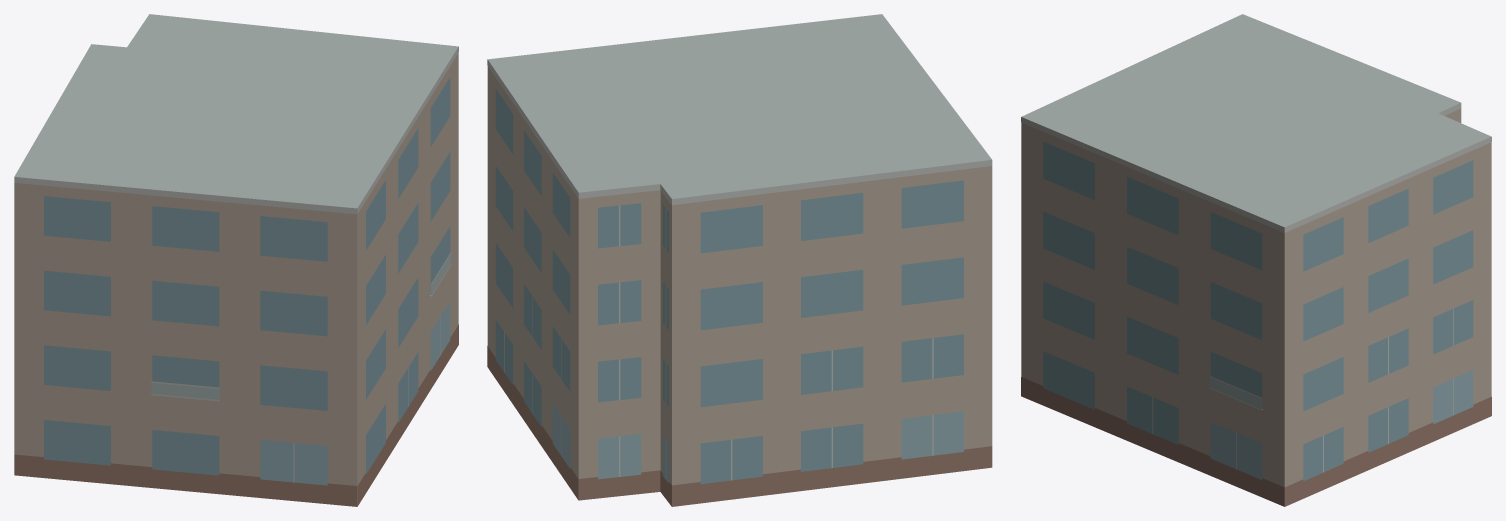
File: survey-upis-32692587.glb
The picture shows the model from 3 angles, left to right: view 1: azimuth 30°, elevation 25°; view 2: azimuth 150°, elevation 25°; view 3: azimuth 270°, elevation 25°; orthographic projection. The views are drawn at different scales.
Visible parts, largest first — view 1: survey-upis-32692587.tmp; view 2: survey-upis-32692587.tmp; view 3: survey-upis-32692587.tmp.
Boxes of the visible parts, x1=… form: survey-upis-32692587.tmp: x1=14, y1=14, x2=458, y2=506; survey-upis-32692587.tmp: x1=487, y1=14, x2=992, y2=506; survey-upis-32692587.tmp: x1=1021, y1=14, x2=1491, y2=506.
Bounding box in the file's own units: 20.15 × 12.3 × 18.78.
